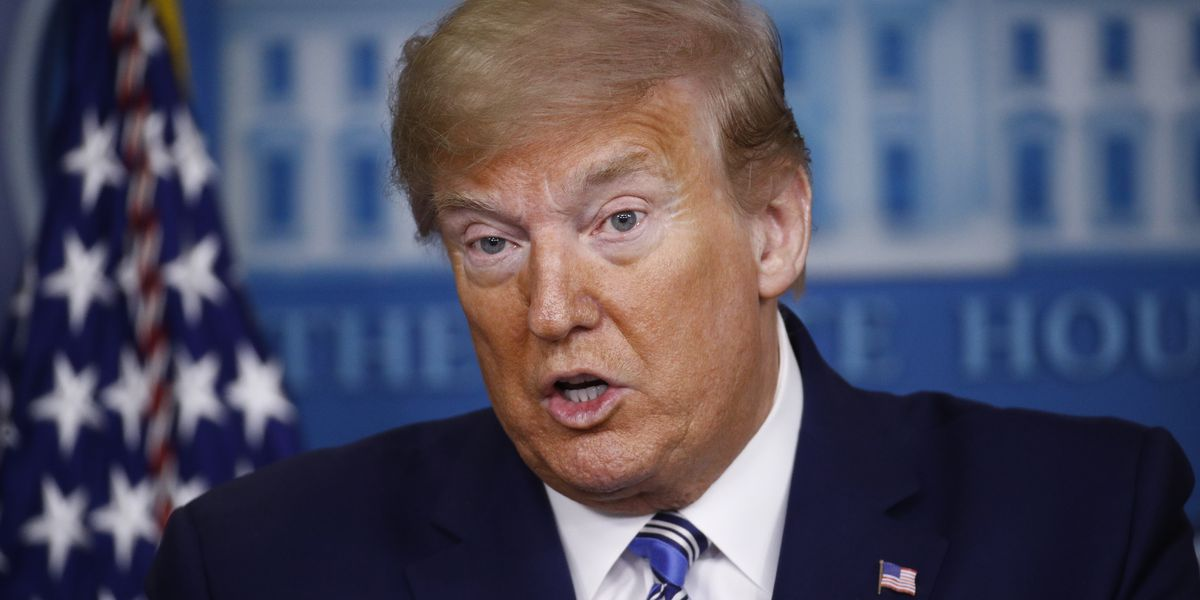bare: (457, 273, 736, 482)
